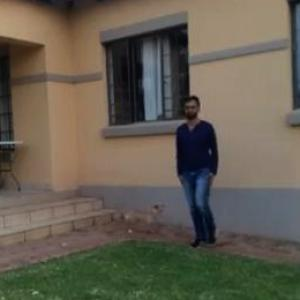follow: (173, 91, 226, 250)
